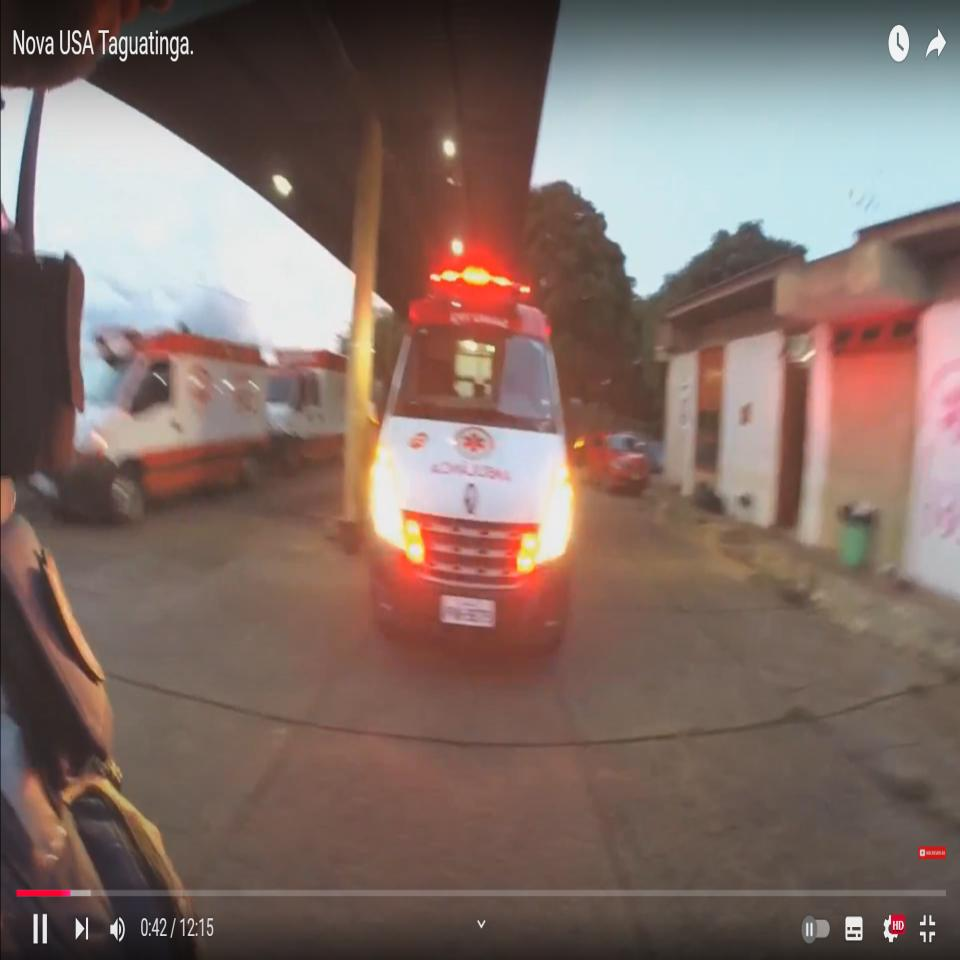bombeiro: (365, 260, 578, 664), (75, 324, 271, 528)
